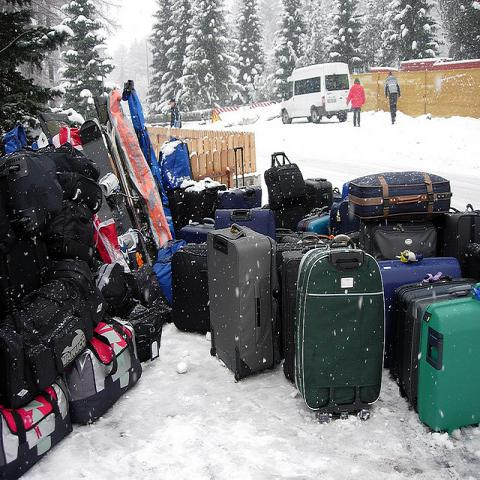car: (291, 61, 344, 70)
truck: (280, 63, 353, 125)
